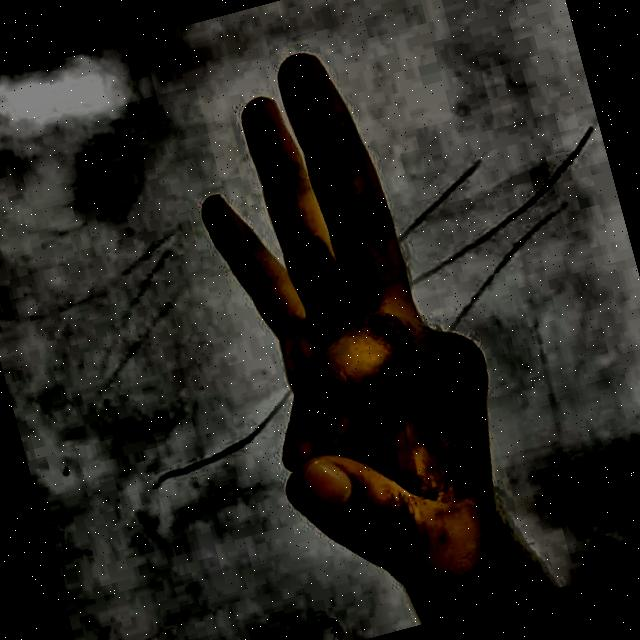Ca: (124, 9, 574, 640)
